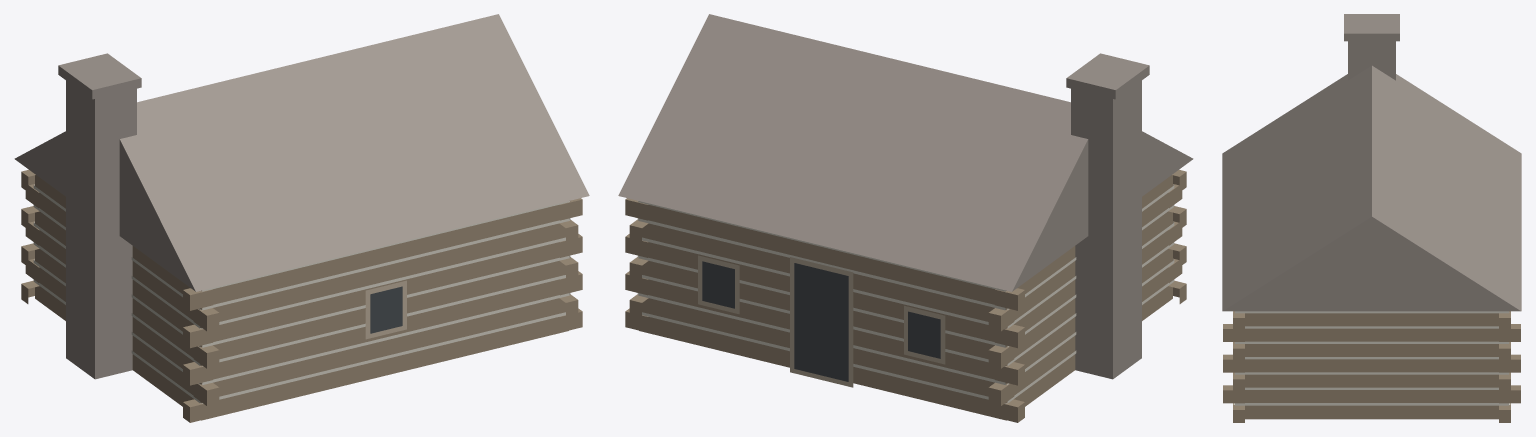
File: clybourn_cabins__log_1824.glb
3 views of the same model, side by side, from view 1: azimuth 30°, elevation 25°; view 2: azimuth 150°, elevation 25°; view 3: azimuth 270°, elevation 25° (orthographic). The views are drawn at different scales.
Visible parts, largest first — view 1: clybourn_cabins__log_1824; view 2: clybourn_cabins__log_1824; view 3: clybourn_cabins__log_1824.
Part boxes in pixels (x1,y1,x2,y2): clybourn_cabins__log_1824: [14, 14, 589, 422]; clybourn_cabins__log_1824: [618, 14, 1193, 422]; clybourn_cabins__log_1824: [1222, 14, 1521, 422].
Bounding box in the file's own units: 8.07 × 5.39 × 6.
